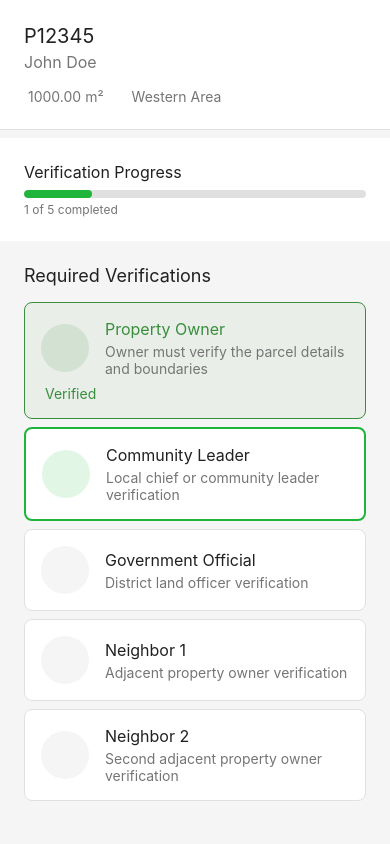
Test: VerificationWorkflowScreen › should start verification when step is clicked
Click the element that starts with "Community Leader" at point(195, 474), box [42,445,348,503]
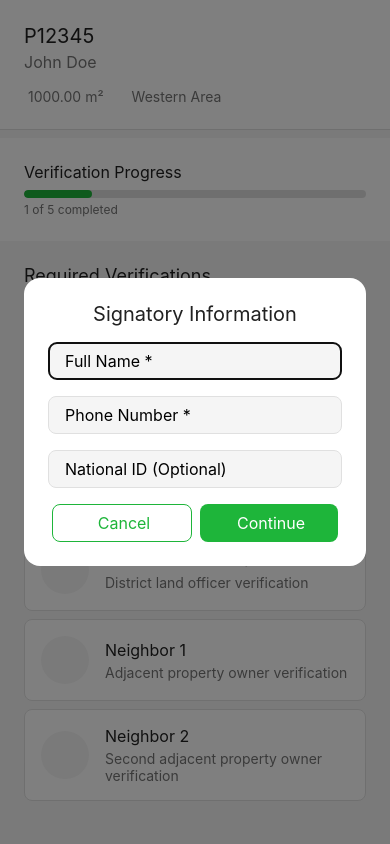
Result: the text "Signatory Information" is shown at [93,302,297,326]
